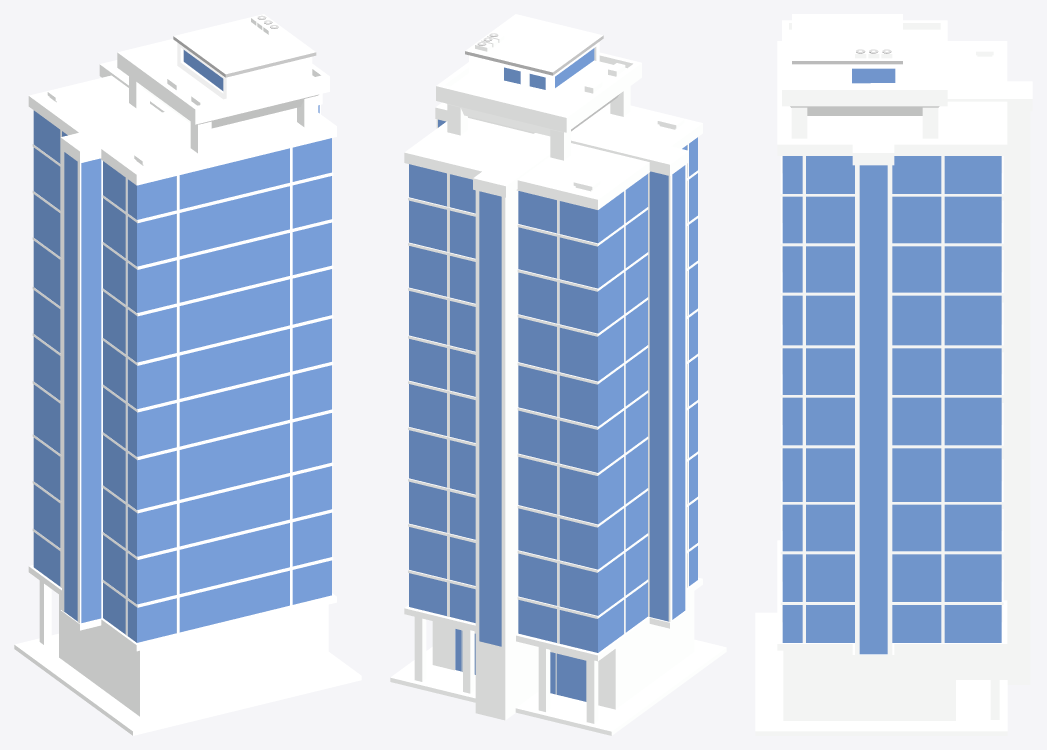
Rendered from business centers.009.glb.
3 views of the same model, side by side, from view 1: azimuth 30°, elevation 25°; view 2: azimuth 150°, elevation 25°; view 3: azimuth 270°, elevation 25° (orthographic). The views are drawn at different scales.
Parts seen in each view (by area): view 1: business centers.009(Clone); view 2: business centers.009(Clone); view 3: business centers.009(Clone).
Boxes of the visible parts, x1=… form: business centers.009(Clone): x1=14, y1=14, x2=361, y2=735; business centers.009(Clone): x1=390, y1=14, x2=726, y2=735; business centers.009(Clone): x1=755, y1=14, x2=1032, y2=735.
Bounding box in the file's own units: 15.31 × 37.84 × 14.31.
1 material, 1 textured.
